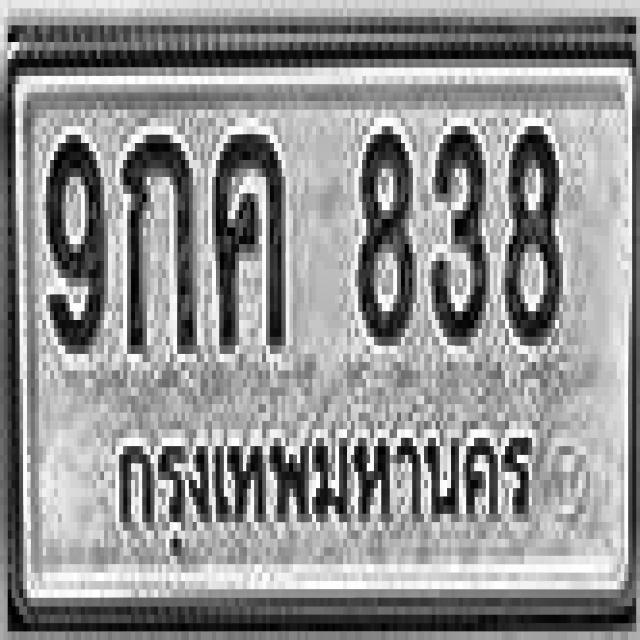license-plate: (8, 30, 632, 615)
